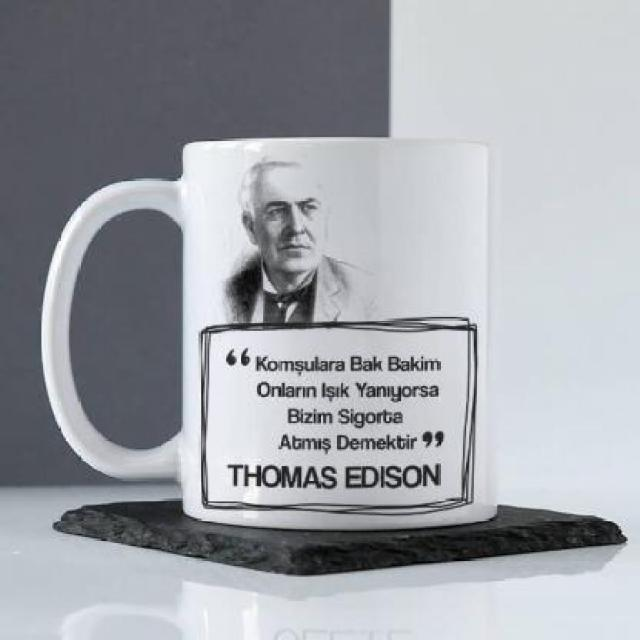taza: (41, 136, 502, 527)
